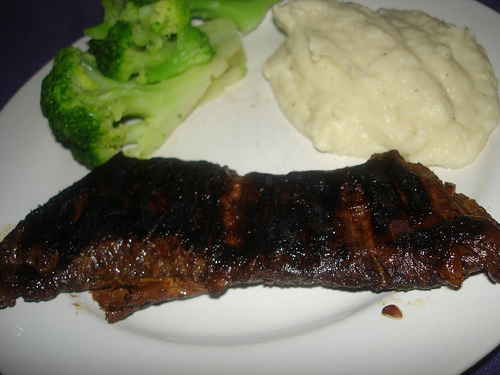broccoli: (37, 38, 253, 181), (197, 0, 275, 35)
